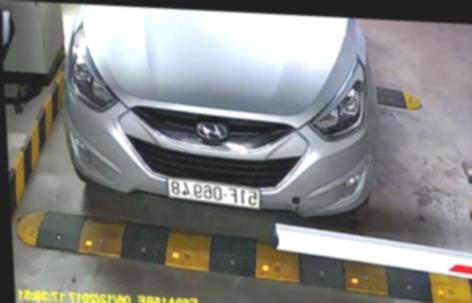License_Plate: (165, 175, 261, 210)
